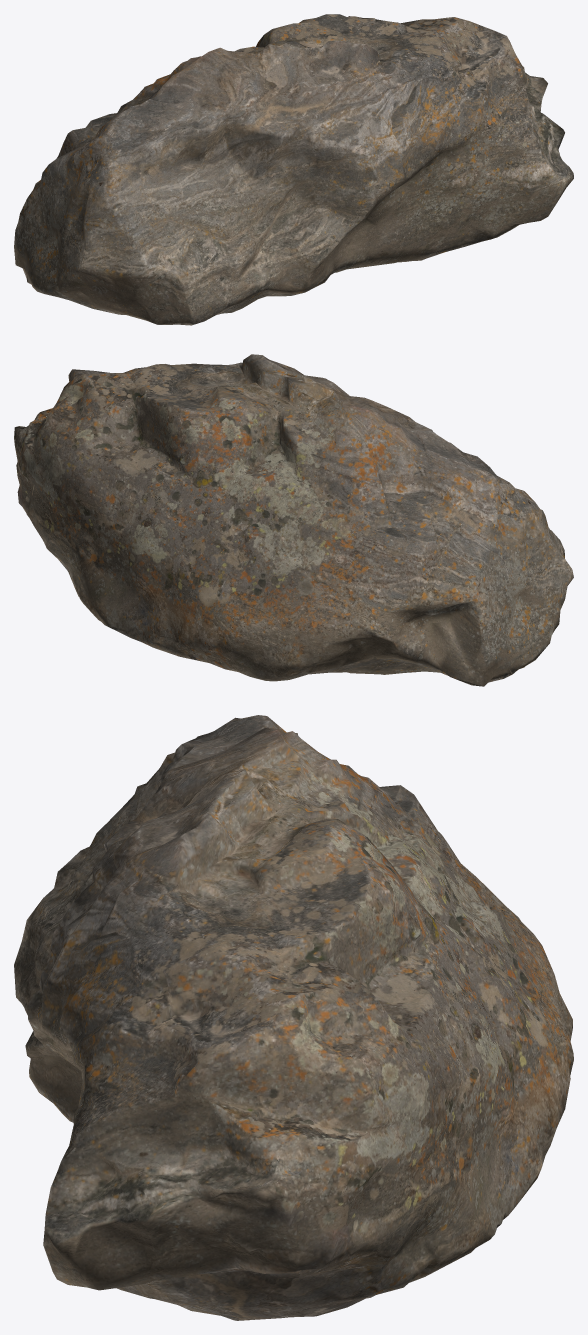
File: SM_wgxgajp_tier_2.gltf
3 views of the same model, one above another, from view 1: azimuth 30°, elevation 25°; view 2: azimuth 150°, elevation 25°; view 3: azimuth 270°, elevation 25° (orthographic). The views are drawn at different scales.
Visible parts, largest first — view 1: wgxgajp_LOD2_TIER2_000; view 2: wgxgajp_LOD2_TIER2_000; view 3: wgxgajp_LOD2_TIER2_000.
Boxes of the visible parts, bbox=[...] form: wgxgajp_LOD2_TIER2_000: bbox=[14, 14, 573, 325]; wgxgajp_LOD2_TIER2_000: bbox=[14, 354, 573, 686]; wgxgajp_LOD2_TIER2_000: bbox=[14, 715, 573, 1320].
Size of the model in its own units: 1.65 by 0.772 by 0.9246.
Materials: 1 (1 with a texture image).
